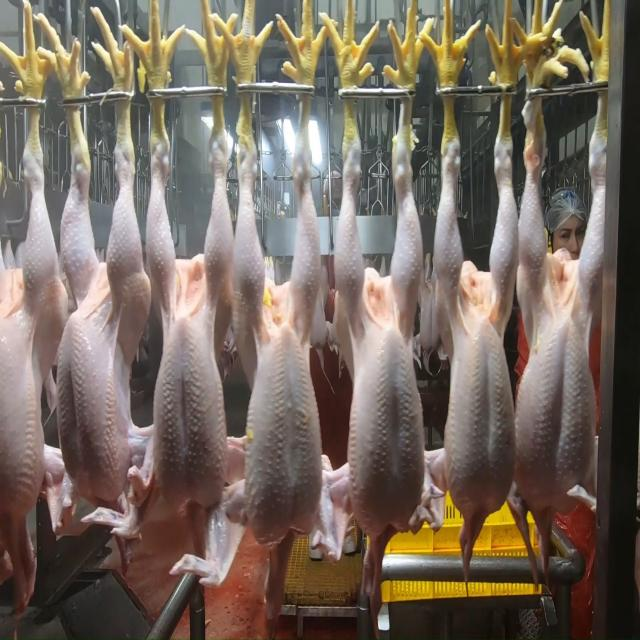chicken: (333, 115, 427, 544), (234, 123, 324, 559), (49, 134, 144, 537), (143, 120, 234, 524), (512, 158, 610, 522), (429, 136, 517, 514), (0, 143, 63, 559)
